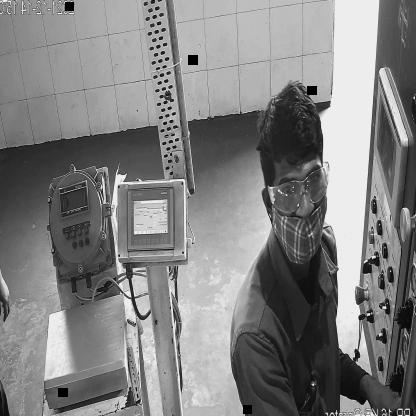goggles: (270, 164, 330, 212)
no_glove: (0, 218, 14, 327)
